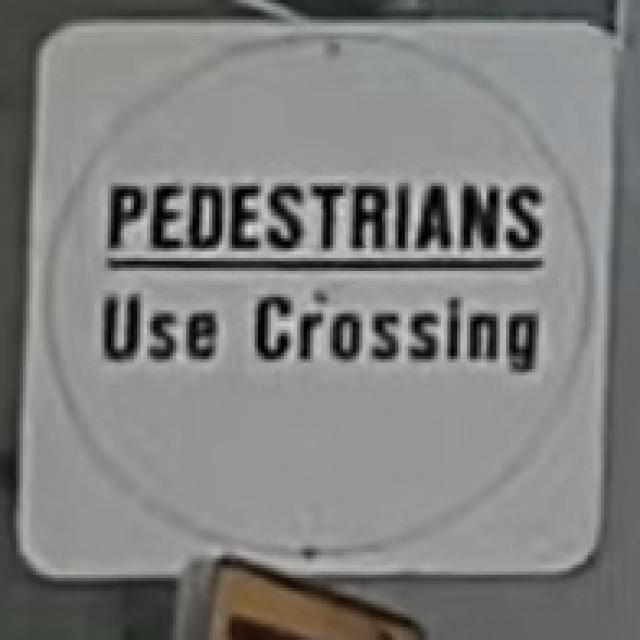pedestriancrossing_sign: (10, 13, 620, 581)
